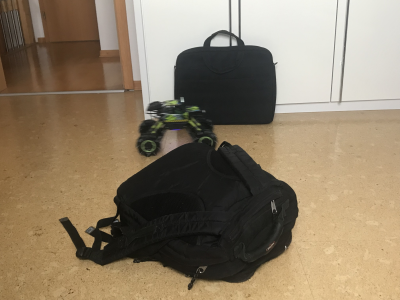remote control car: (132, 97, 218, 158)
